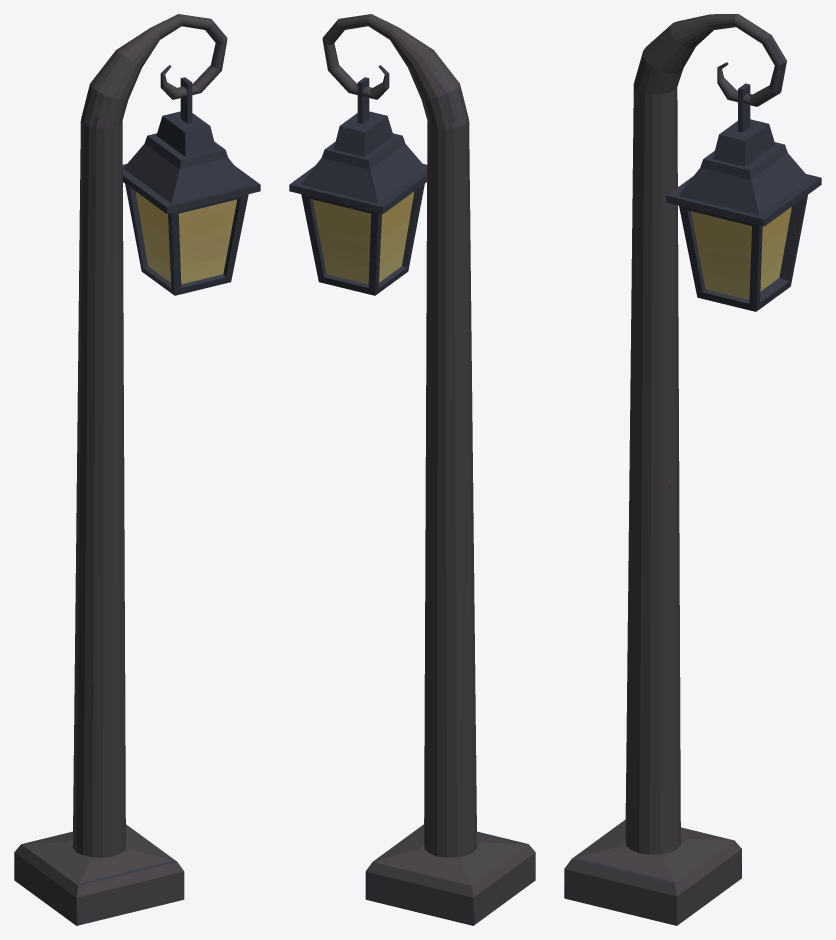
File: postRantern.obj
The picture shows the model from 3 angles, left to right: view 1: azimuth 30°, elevation 25°; view 2: azimuth 150°, elevation 25°; view 3: azimuth 330°, elevation 25°; orthographic projection. The views are drawn at different scales.
Parts seen in each view (by area): view 1: 街灯; view 2: 街灯; view 3: 街灯.
Part boxes in pixels (left/top/right/bottom): 街灯: left=14, top=14, right=260, bottom=925; 街灯: left=289, top=14, right=535, bottom=925; 街灯: left=564, top=14, right=821, bottom=925.
Size of the model in its own units: 1.99 by 8.66 by 1.14.
Materials: 1 (1 with a texture image).
